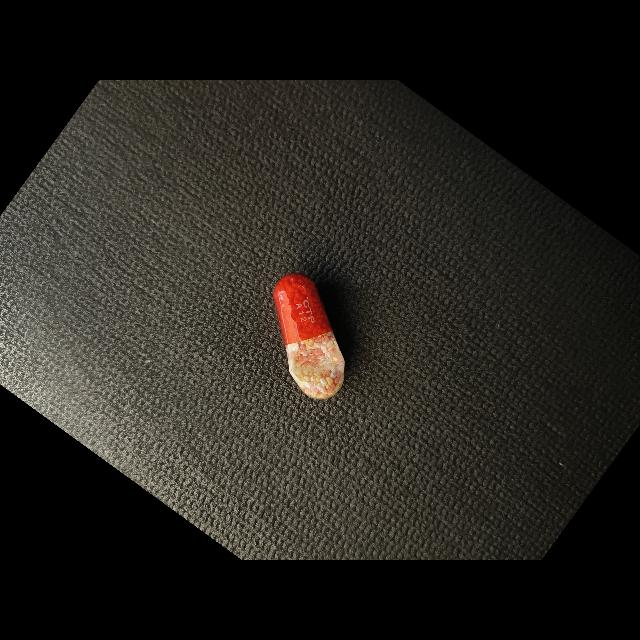Defective Capsule: (273, 273, 345, 400)
